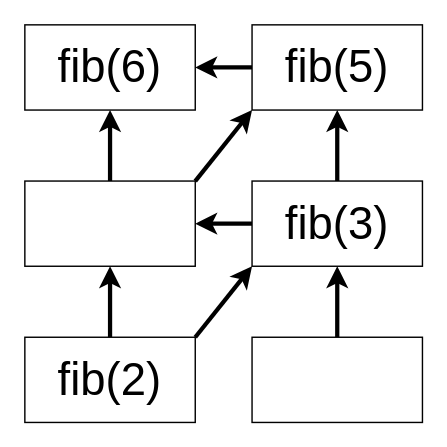
Image size: 447x447. Some labels were removed from this diagram. Each missing label, with the centre of its shape:
"fib(1)" belongs at (336,379).
"fib(4)" belongs at (109,223).
